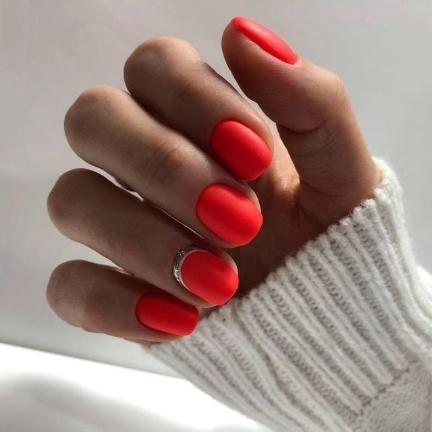Nail: (195, 184, 263, 247), (173, 244, 239, 306), (210, 120, 274, 182), (233, 16, 298, 65), (135, 292, 199, 336)
